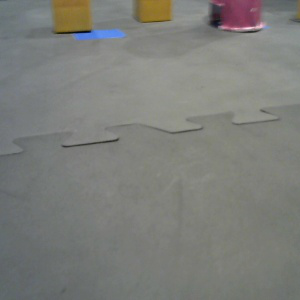Right: (208, 1, 267, 33)
